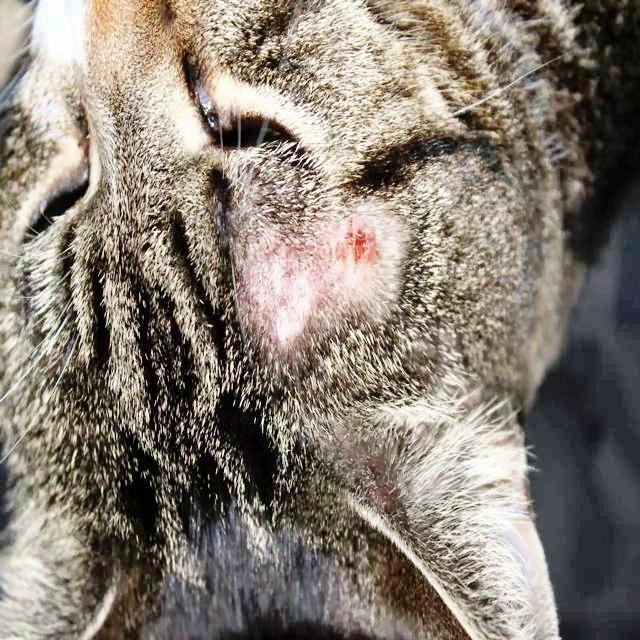ringworm: (252, 222, 403, 330)
